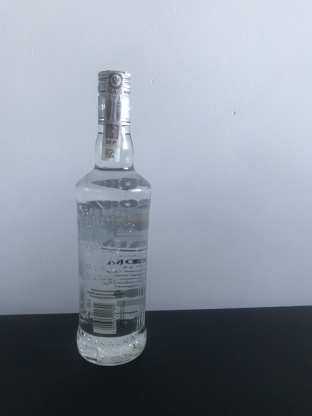nakretka: (95, 66, 133, 128)
